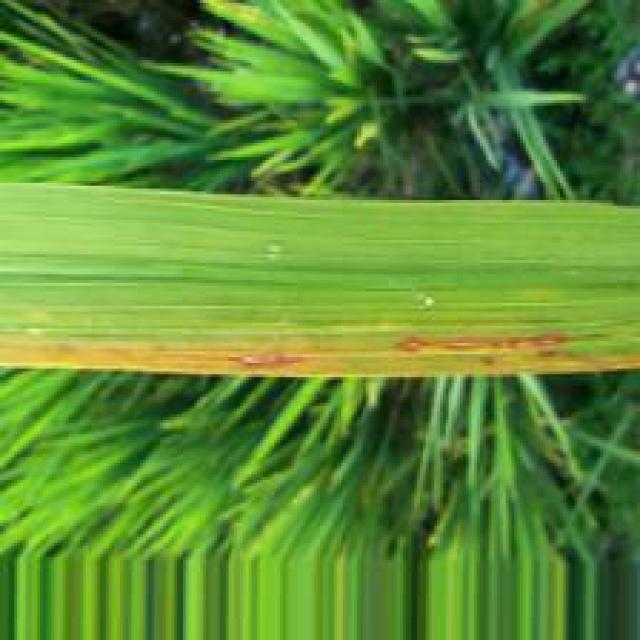Leaf_Blast: (0, 337, 333, 381), (374, 327, 640, 380)
